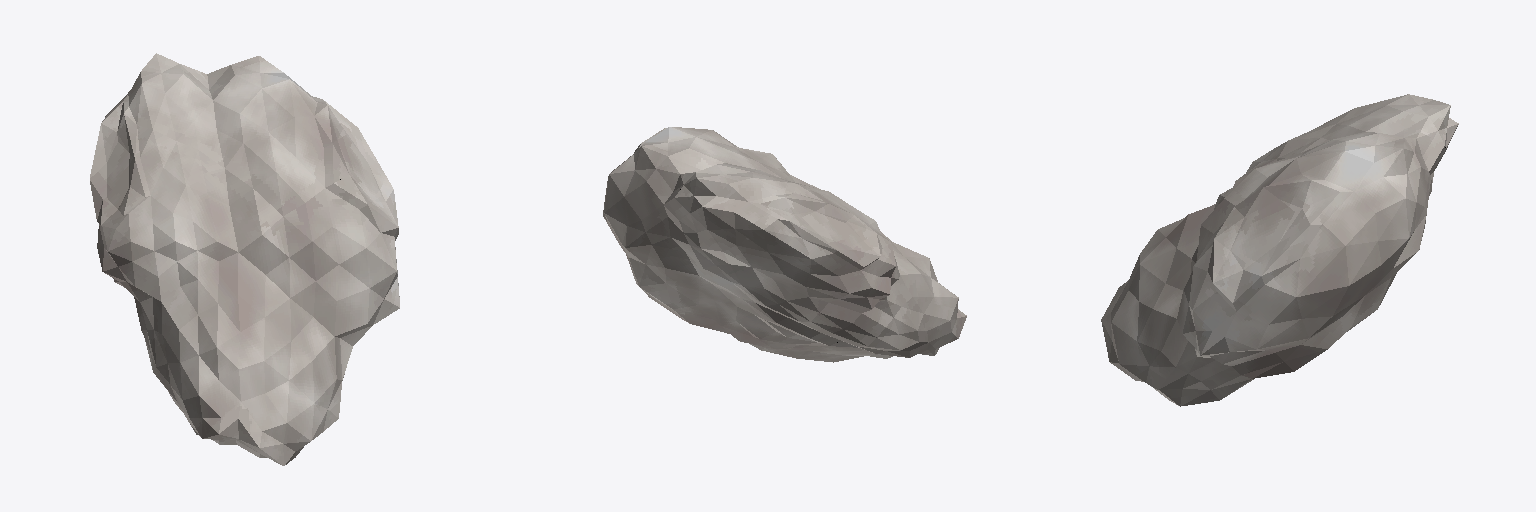
The picture shows the model from 3 angles: view 1: azimuth 30°, elevation 25°; view 2: azimuth 150°, elevation 25°; view 3: azimuth 270°, elevation 25°; orthographic projection.
Parts seen in each view (by area): view 1: Rock; view 2: Rock; view 3: Rock.
Boxes of the visible parts, <box> form: Rock: <box>90,53,399,465</box>; Rock: <box>603,127,966,362</box>; Rock: <box>1101,94,1458,406</box>.
Bounding box in the file's own units: 1.75 × 1.74 × 1.96.
Materials: 1 (1 with a texture image).